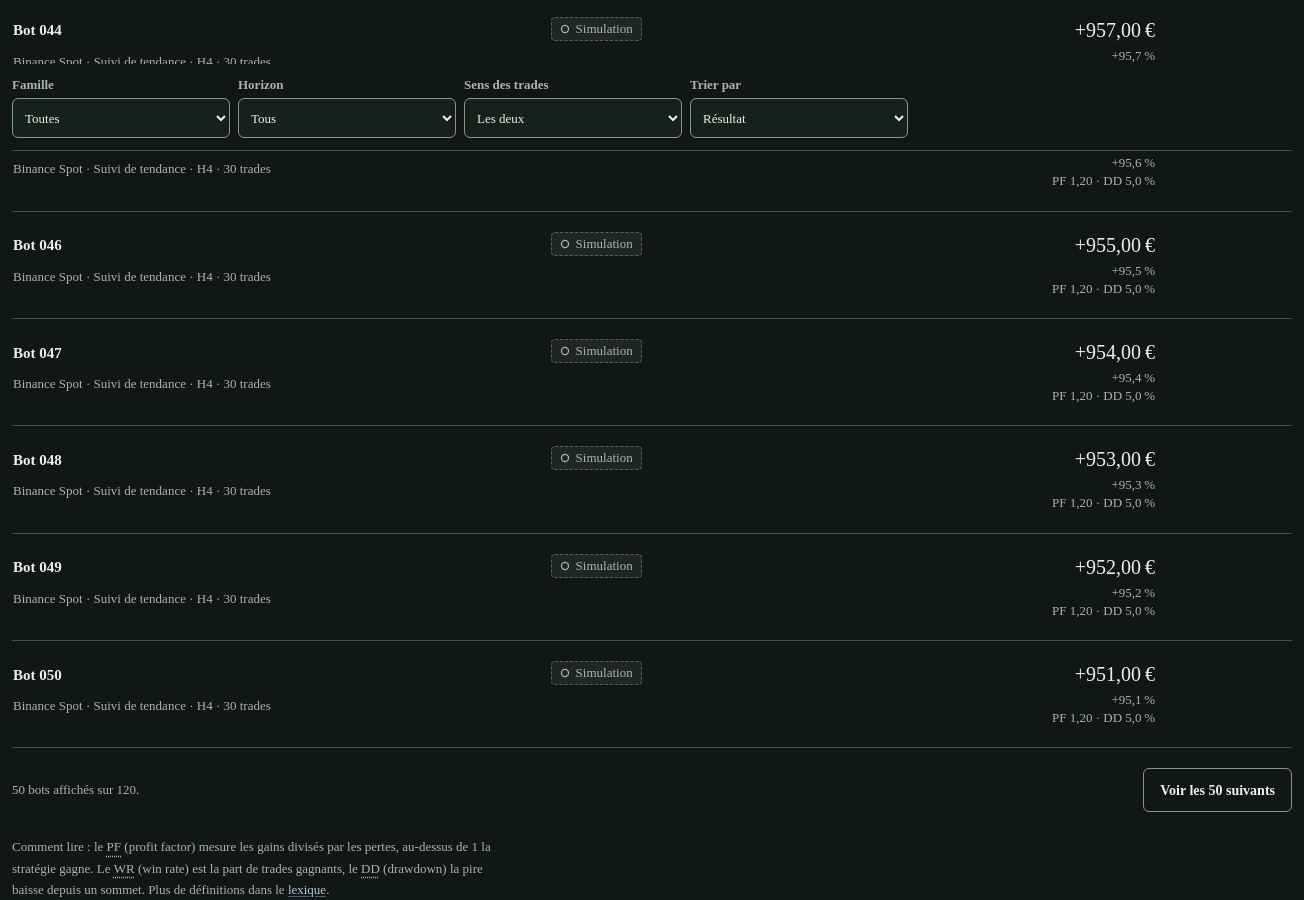
Scenario: FleetRegister — a long list, never a fold › shows the first 50 rows, then « Voir les N suivants », down to the last loser
The width and height of the screenshot is (1304, 900).
(page scrolled)
Expected: the text with test id "fleet-shown" shows "50 bots affichés sur 120", 12,782 -> 139,797
Click the button "Voir les 50 suivants" at [1218, 790], box 1143,768 -> 1292,812
(page scrolled)
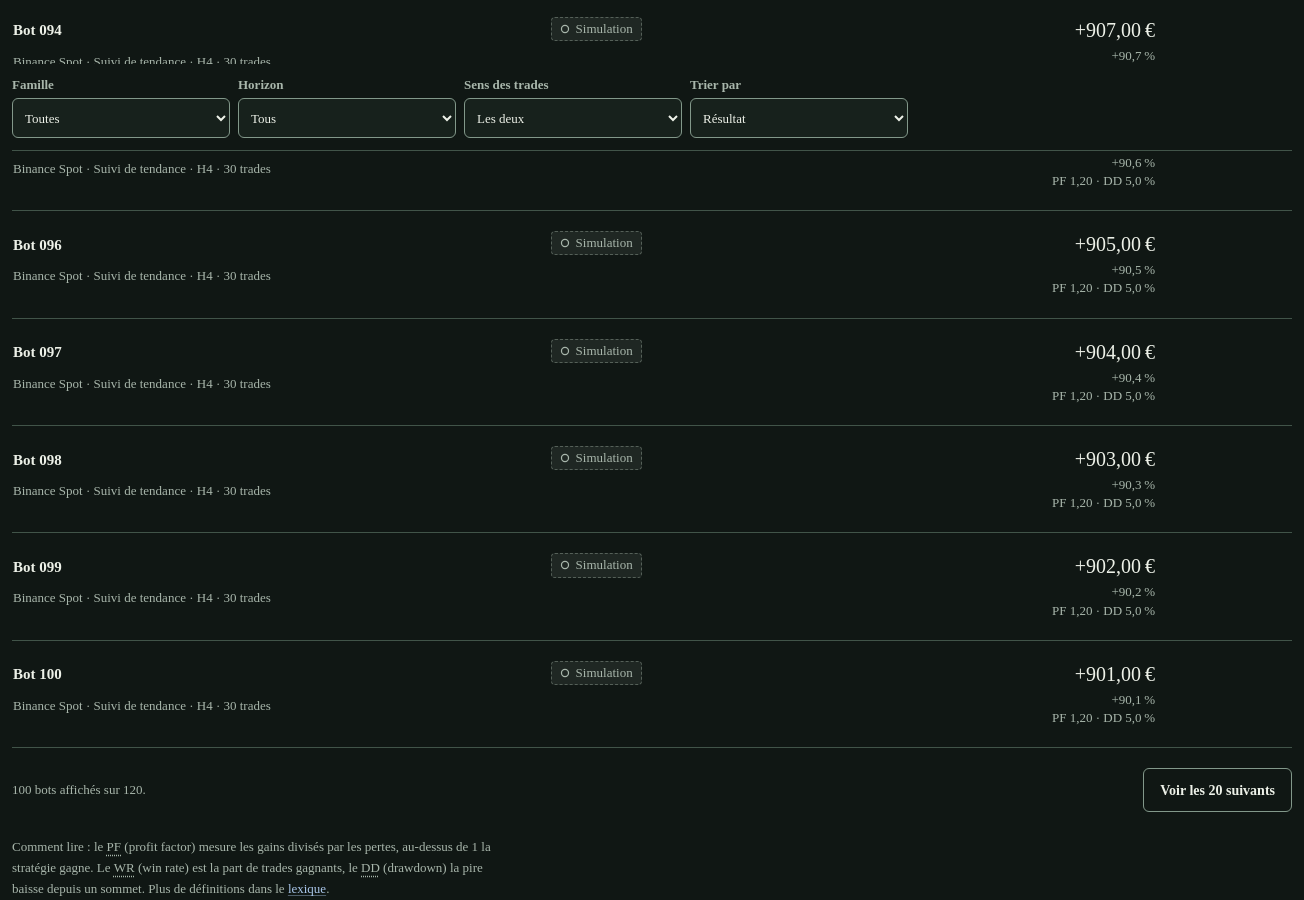
Click the button "Voir les 20 suivants" at [1218, 790], box 1143,768 -> 1292,812
(page scrolled)
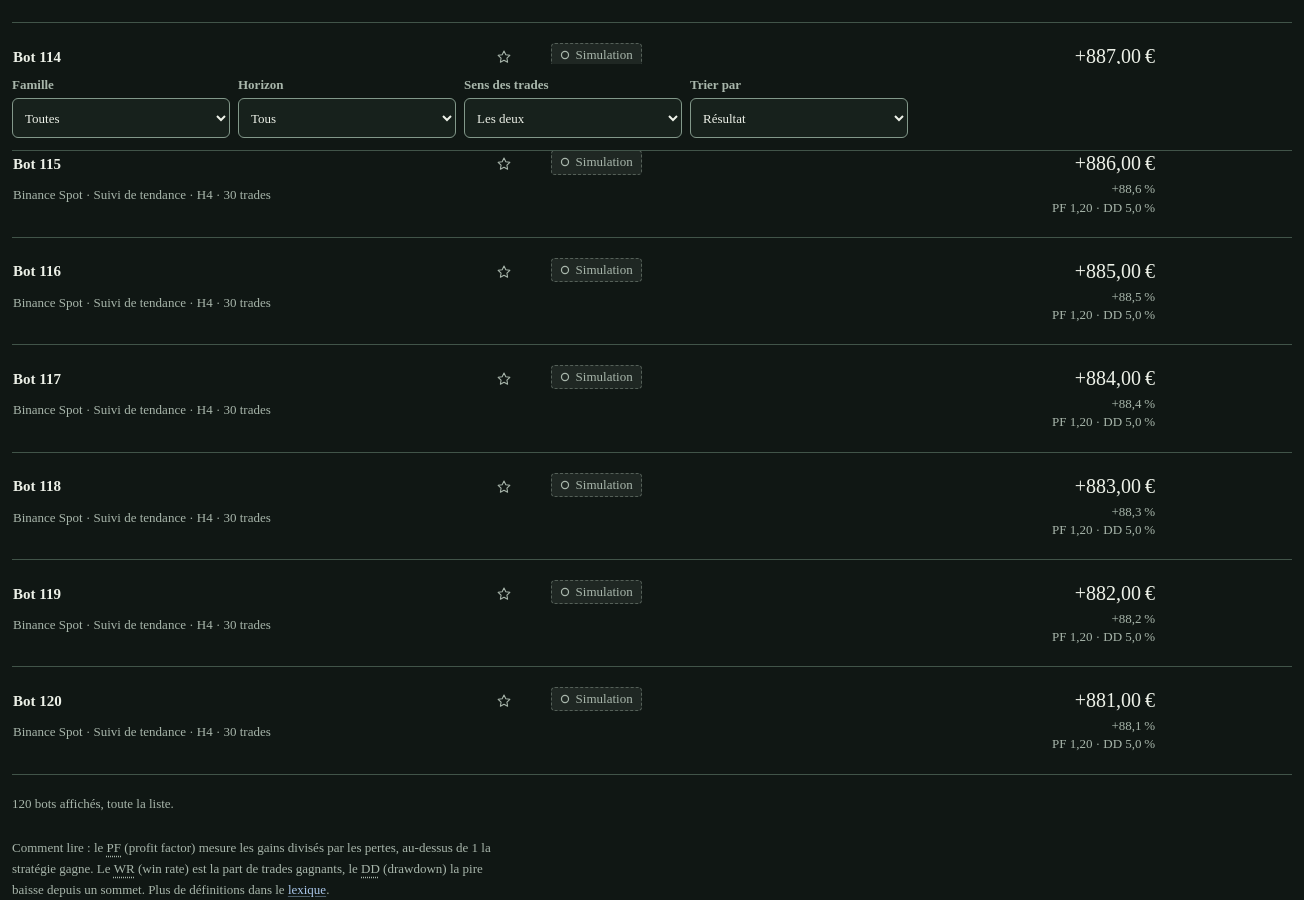
Now the link "Bot 120" is shown, box 13,693 -> 62,709
Now the button with test id "fleet-more" is gone
